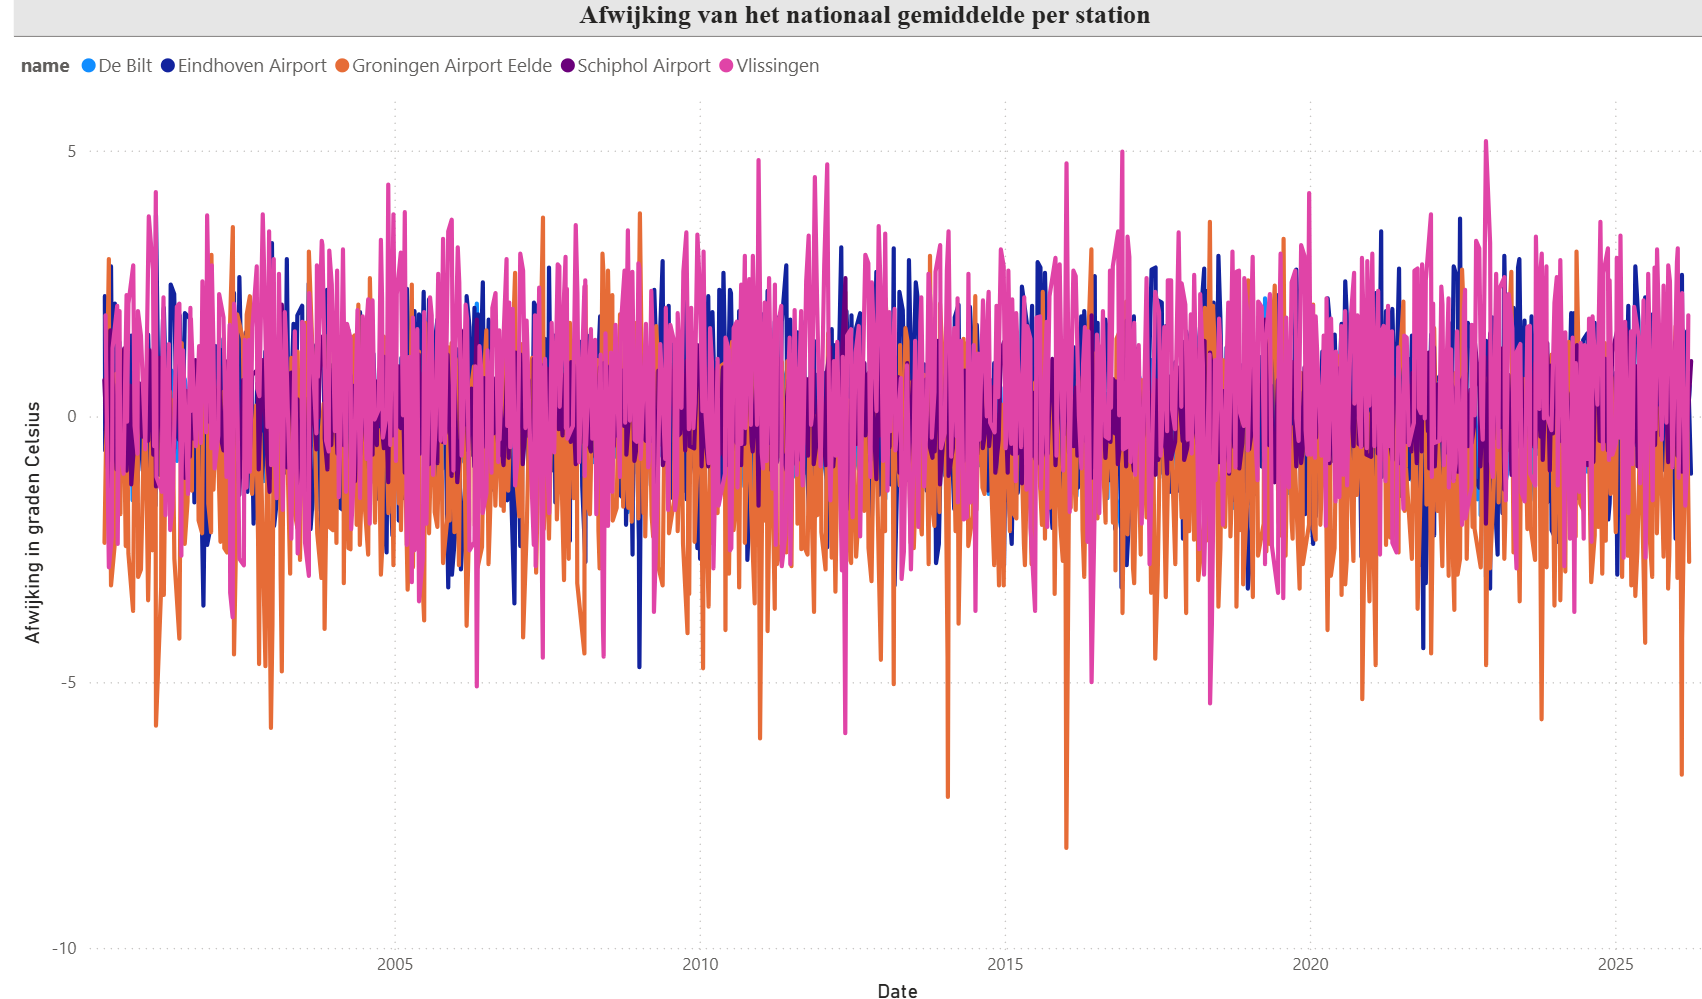

Layout of this report page (visuals, bound fields, positions):
{"tool":"powerbi","page":{"name":"Temperatuurafwijking","canvas":[1280,720],"ordinal":2},"visuals":[{"type":"lineChart","title":"Afwijking van het nationaal gemiddelde per station","fields":{"Category":["deviation_nat_avg.date"],"Series":["deviation_nat_avg.name"],"Y":["Avg(deviation_nat_avg.afwijking_van_nationaal)"]},"box":[16,0,1216,720],"z":0}]}

Visuals, with their boxes on the page's 1280x720 design canvas (x1, y1, x2, y2). These are canvas units, not pixel positions in the 1702x999 screenshot, which may show the page scaled, cropped or inside an application window:
"Afwijking van het nationaal gemiddelde per station" lineChart: bbox=(16, 0, 1232, 720)
